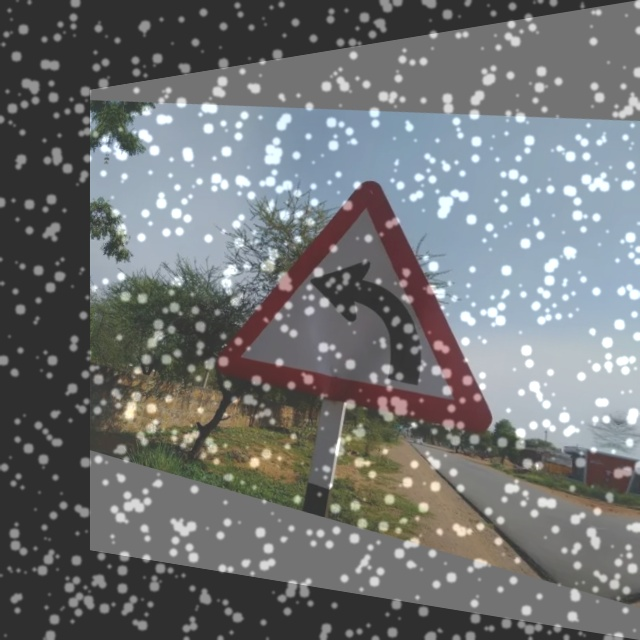Left_Hand_Curve: (229, 148, 531, 438)
